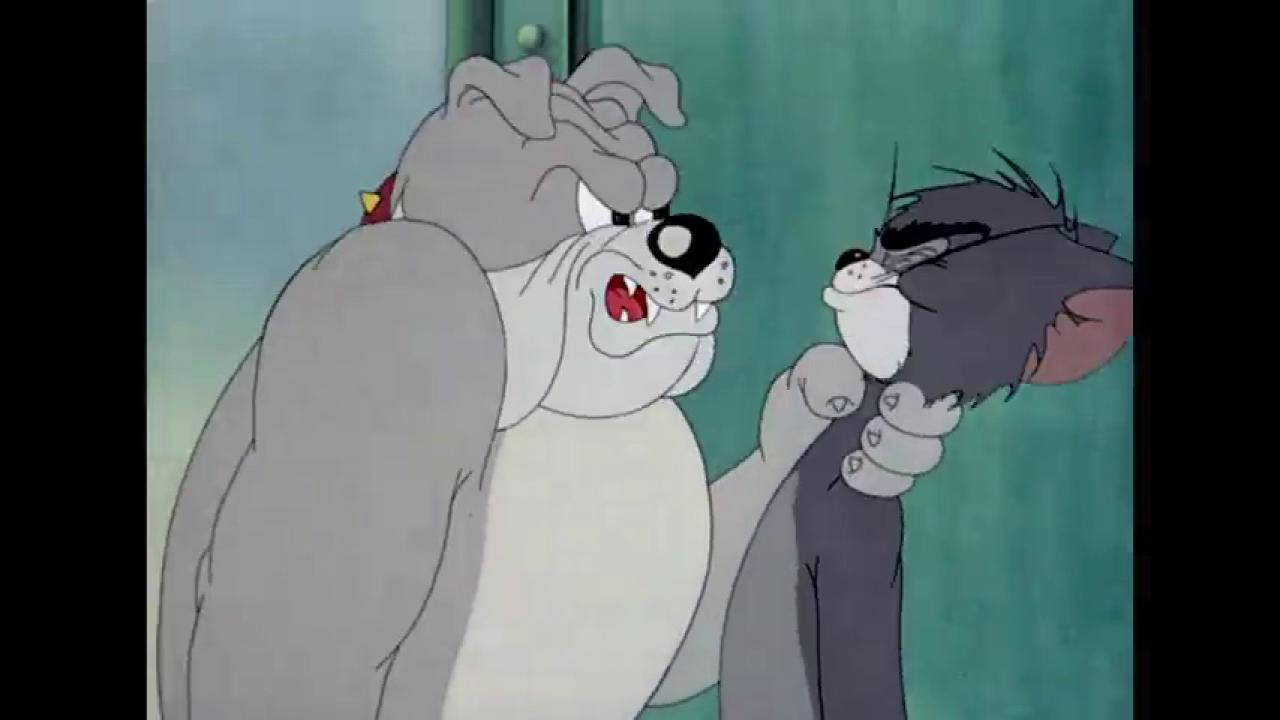Tom: (719, 139, 1134, 720)
